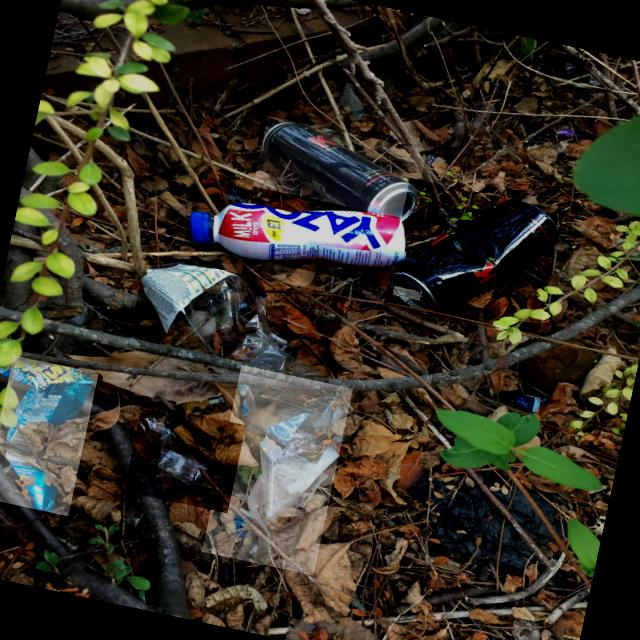Aluminium foil: (515, 396, 532, 412), (235, 514, 250, 530), (526, 396, 539, 412)
Bottle cap: (191, 212, 206, 244)
Clear plastic bottle: (190, 203, 406, 268)
Drink can: (389, 201, 558, 314), (263, 123, 417, 222)
Other plastic: (6, 358, 96, 512), (557, 127, 573, 135)
Paper bag: (336, 81, 363, 119)
Plastic film: (141, 262, 329, 378), (238, 384, 345, 563), (139, 408, 236, 500), (556, 54, 590, 80)
Pop tab: (393, 287, 420, 299)
